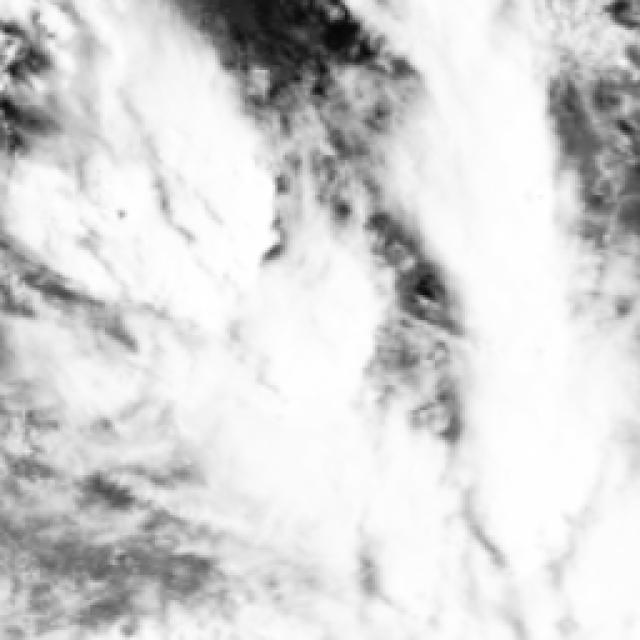CB: (191, 314, 344, 452), (491, 286, 571, 530), (452, 146, 546, 285), (267, 443, 423, 522)
